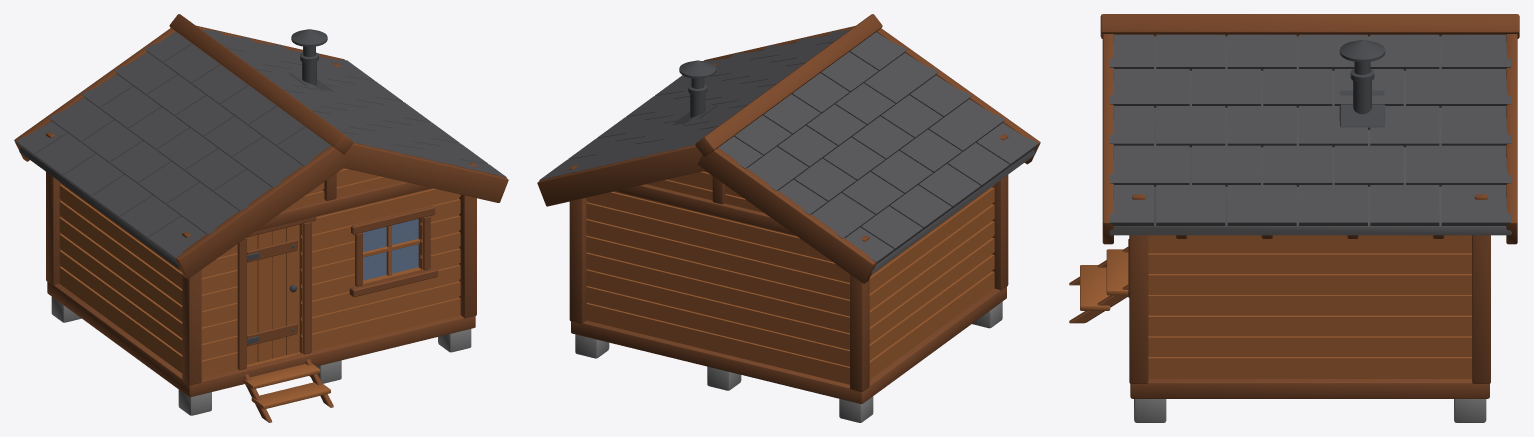
File: Cabin.fbx
The picture shows the model from 3 angles, left to right: view 1: azimuth 30°, elevation 25°; view 2: azimuth 150°, elevation 25°; view 3: azimuth 270°, elevation 25°; orthographic projection. The views are drawn at different scales.
Parts seen in each view (by area): view 1: Cabin_Mesh; view 2: Cabin_Mesh; view 3: Cabin_Mesh.
Boxes of the visible parts, <box> form: Cabin_Mesh: <box>14,14,508,422</box>; Cabin_Mesh: <box>537,14,1040,422</box>; Cabin_Mesh: <box>1069,14,1519,422</box>.
Bounding box in the file's own units: 5.05 × 3.93 × 4.73.
